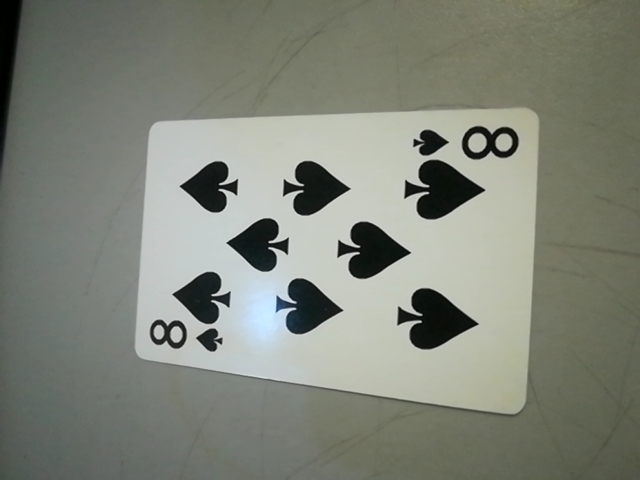ht 8: (426, 117, 528, 171)
